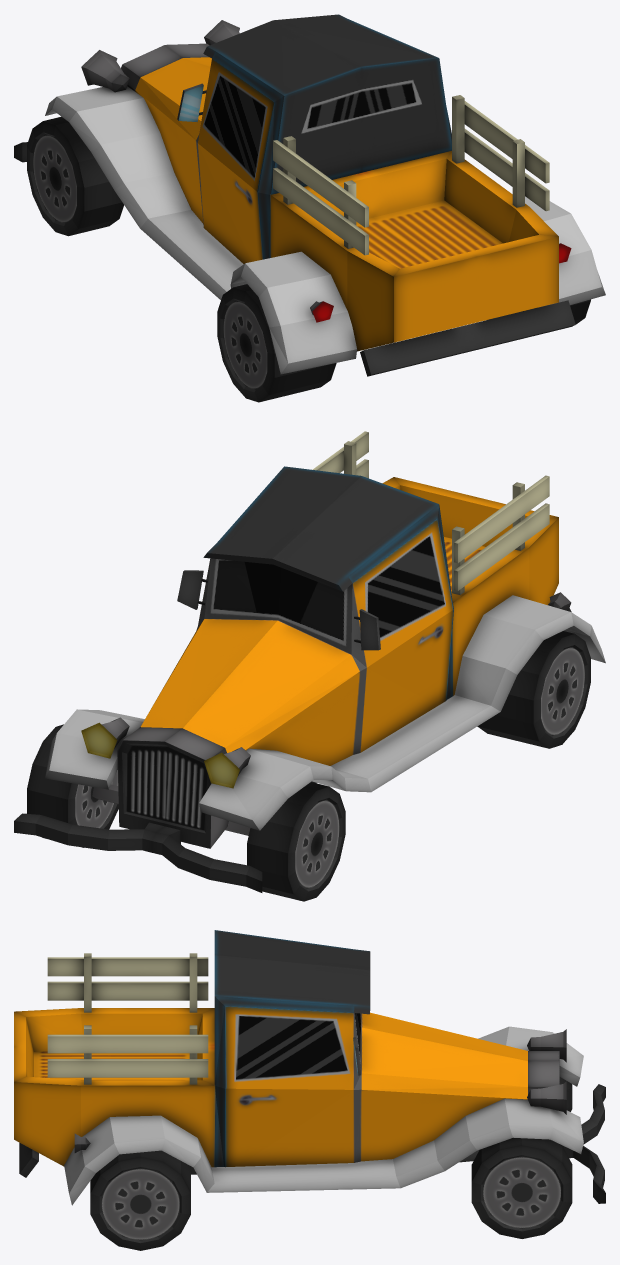
Rendered from PickupTruck.fbx.
3 views of the same model, one above another, from view 1: azimuth 30°, elevation 25°; view 2: azimuth 150°, elevation 25°; view 3: azimuth 270°, elevation 25° (orthographic). The views are drawn at different scales.
Visible parts, largest first — view 1: Body, FrontLeft, BackLeft; view 2: Body, FrontLeft, BackLeft, FrontRight; view 3: Body, FrontRight, BackRight.
Part boxes in pixels (x1,y1,x2,y2): Body: (14,14,605,376); FrontLeft: (27,116,123,236); BackLeft: (217,284,336,402); Body: (14,431,605,892); FrontLeft: (247,782,345,901); BackLeft: (477,631,590,748); FrontRight: (27,724,118,847); Body: (14,930,605,1205); FrontRight: (471,1137,572,1238); BackRight: (90,1150,190,1250).
Bounding box in the file's own units: 286 × 220 × 516.
1 material, 1 textured.
